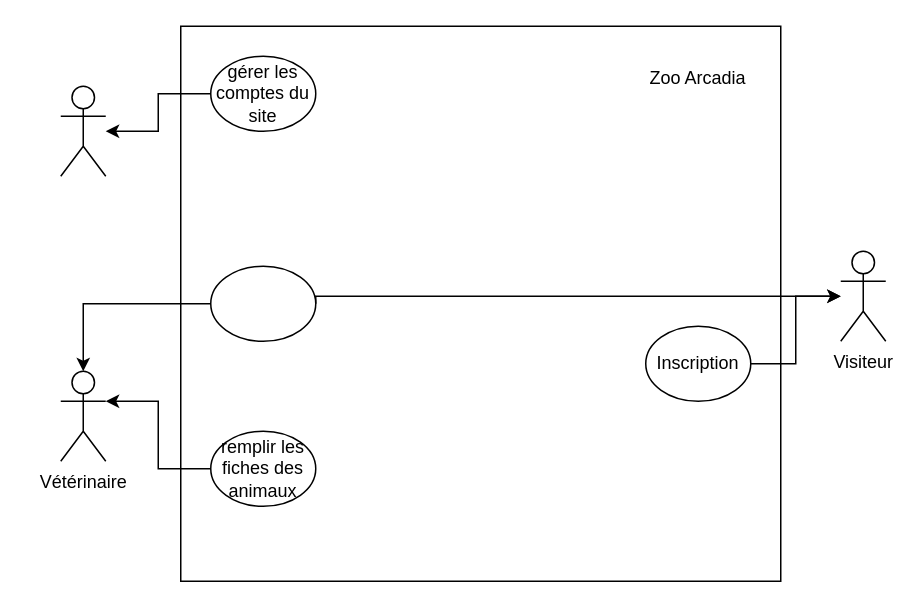
The diagram is 920 pixels wide and 608 high, and some of its shapes have lost their labels. Each missing label, with the box of its shape:
Administrateur: (59, 85, 106, 176)
Afficher les fiches des animaux: (209, 265, 316, 341)
